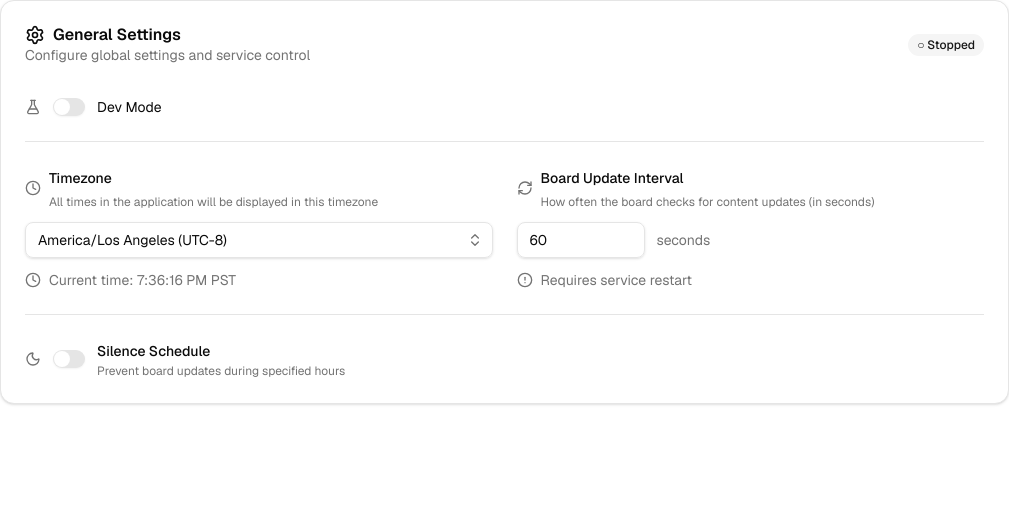
Test case: GeneralSettings › shows silence time pickers when enabled
Check: the switch next to "Dev Mode" is shown, box [53, 98, 85, 116]
Click the switch next to "Silence Schedule" at (69, 359), box [53, 350, 85, 368]
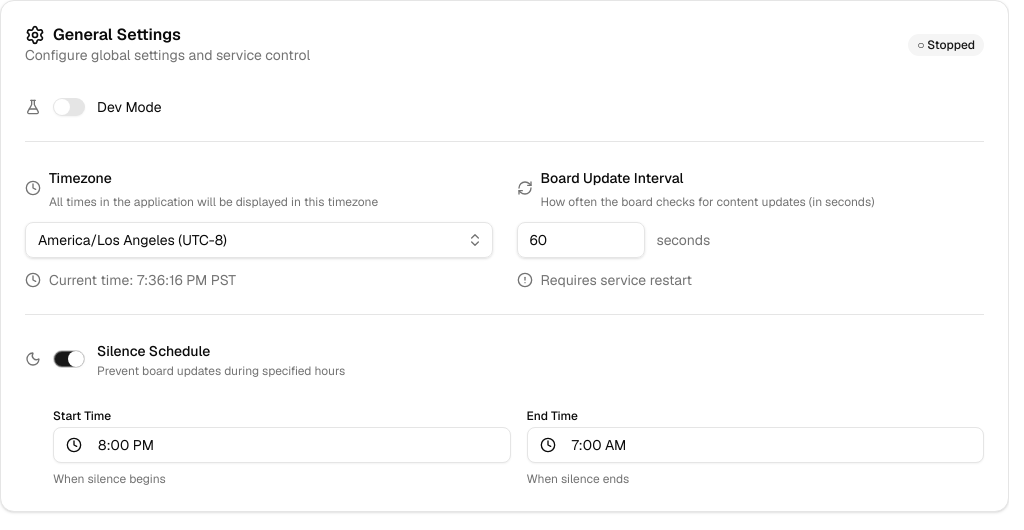
Check: the text "Start Time" is shown, box [53, 408, 111, 424]
Check: the text "End Time" is shown, box [526, 408, 578, 424]
